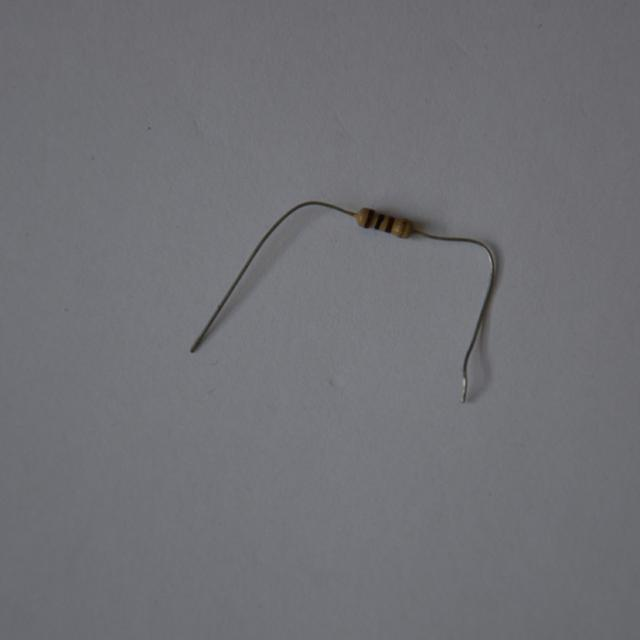black: (373, 213, 383, 229)
brown: (363, 209, 374, 227), (384, 217, 394, 232)
gold: (399, 219, 409, 237)
resistor: (351, 201, 423, 247)
